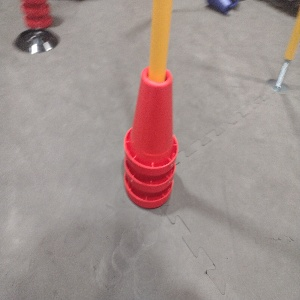Red_3: (123, 64, 179, 210)
